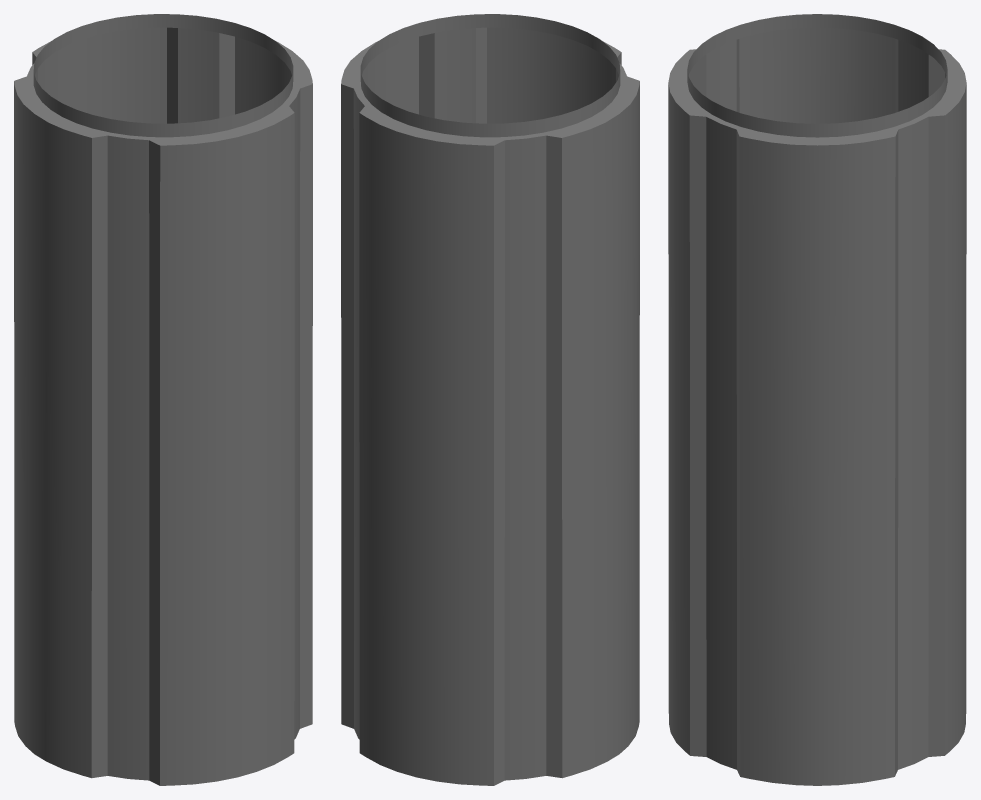
Rendered from tesla_modules_core_inner_cylinder_01.dae.
3 renders of one model, left to right at view 1: azimuth 30°, elevation 25°; view 2: azimuth 150°, elevation 25°; view 3: azimuth 270°, elevation 25°, orthographic.
Visible parts, largest first — view 1: tesla_modules_core_inner_cylinder_01; view 2: tesla_modules_core_inner_cylinder_01; view 3: tesla_modules_core_inner_cylinder_01.
Part boxes in pixels (left/top/right/bottom): tesla_modules_core_inner_cylinder_01: left=14, top=14, right=312, bottom=785; tesla_modules_core_inner_cylinder_01: left=341, top=14, right=639, bottom=785; tesla_modules_core_inner_cylinder_01: left=668, top=14, right=966, bottom=785.
Size of what is drawn, in the model's own units: 19.8 by 48 by 19.84.
